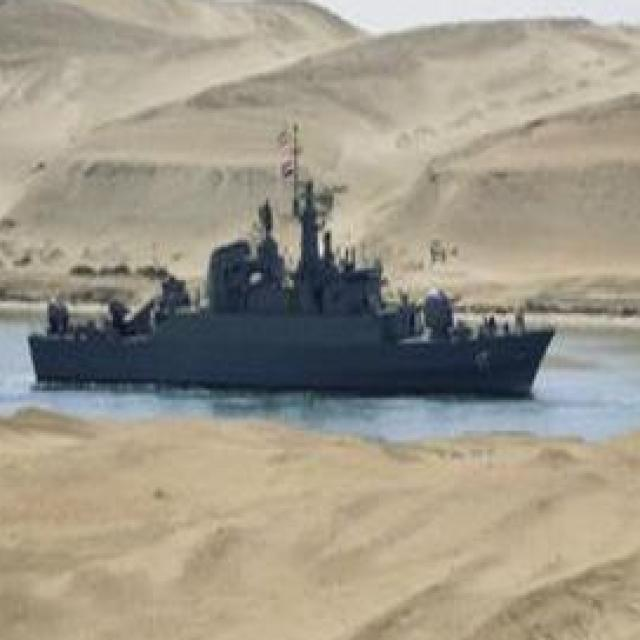navalvessels: (24, 183, 566, 401)
